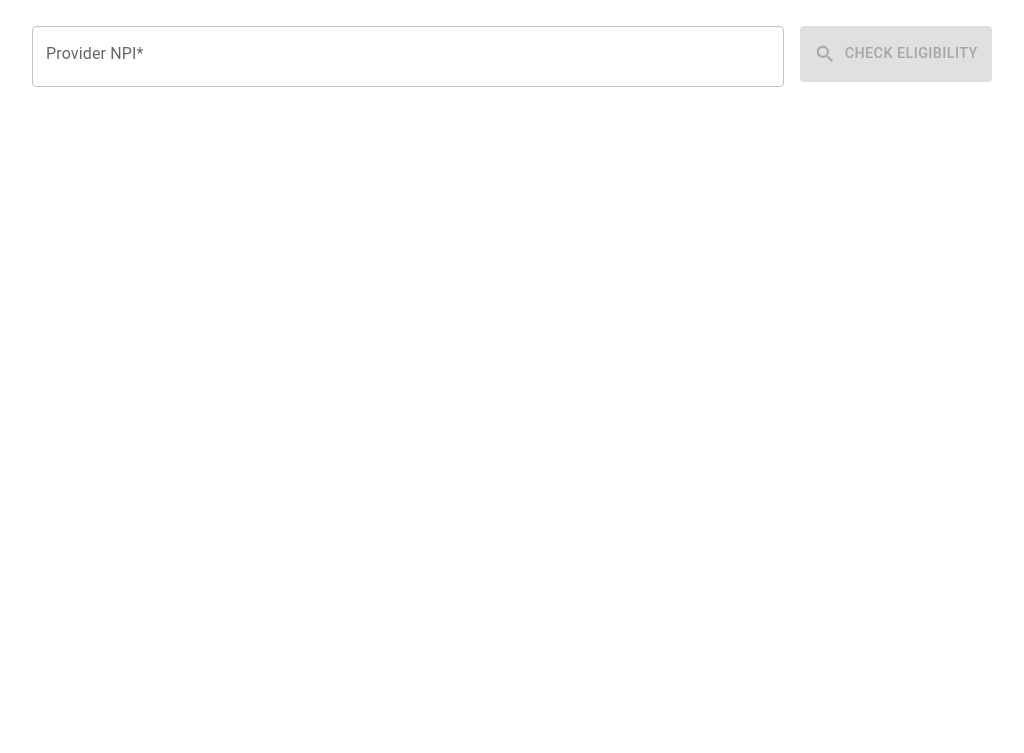
Test: NPISearch Component › displays board actions when present
Type "1104025329" into the field labelled "Provider NPI*" at (408, 56), box [32,26,784,87]
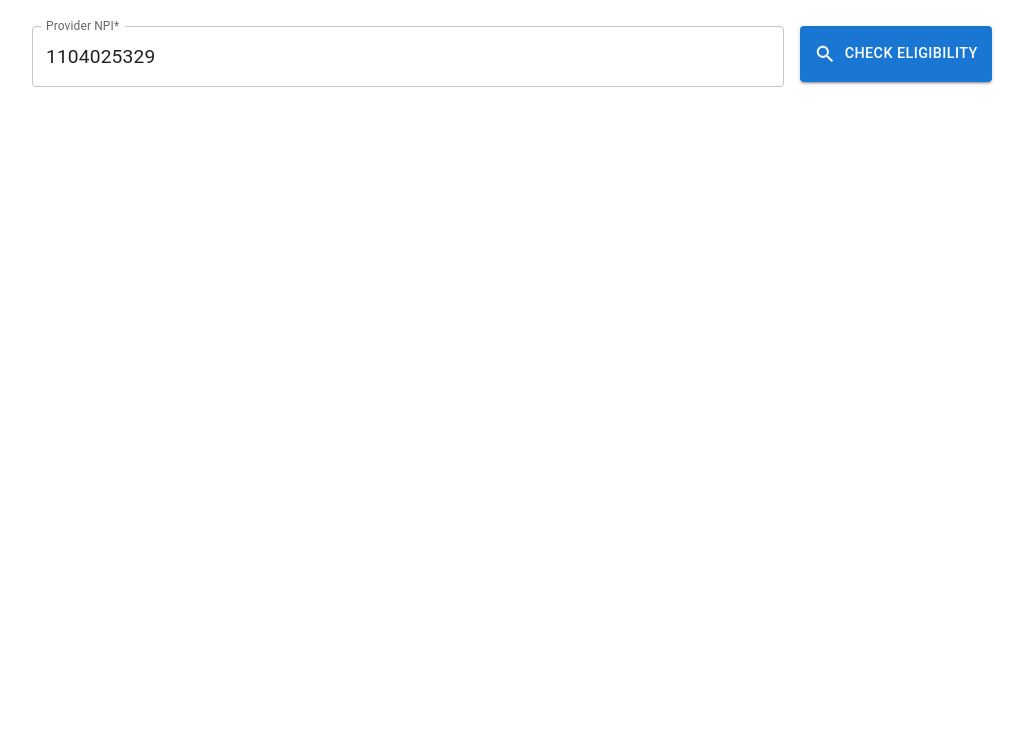
Click the button "Check Eligibility" at (896, 54), box [800,26,992,82]
(page scrolled)
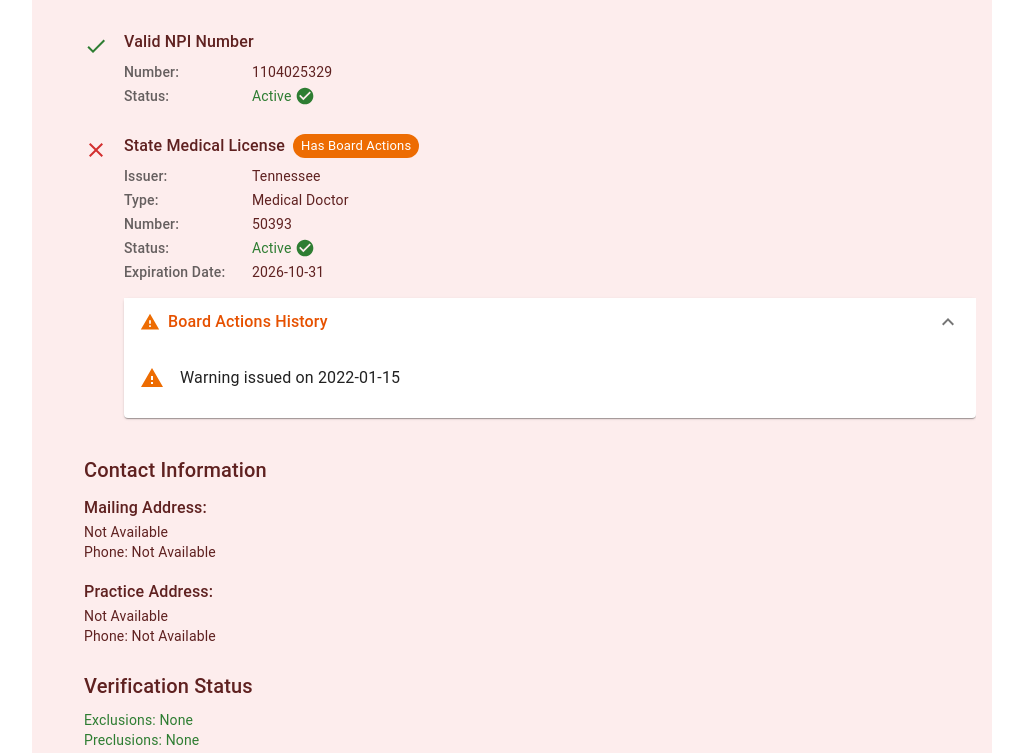
Result: the text "Board Actions History" is shown at [168,308,328,336]
Result: the element with test id "board-action-1-text" reads "Warning issued on 2022-01-15" at [180,368,400,387]
